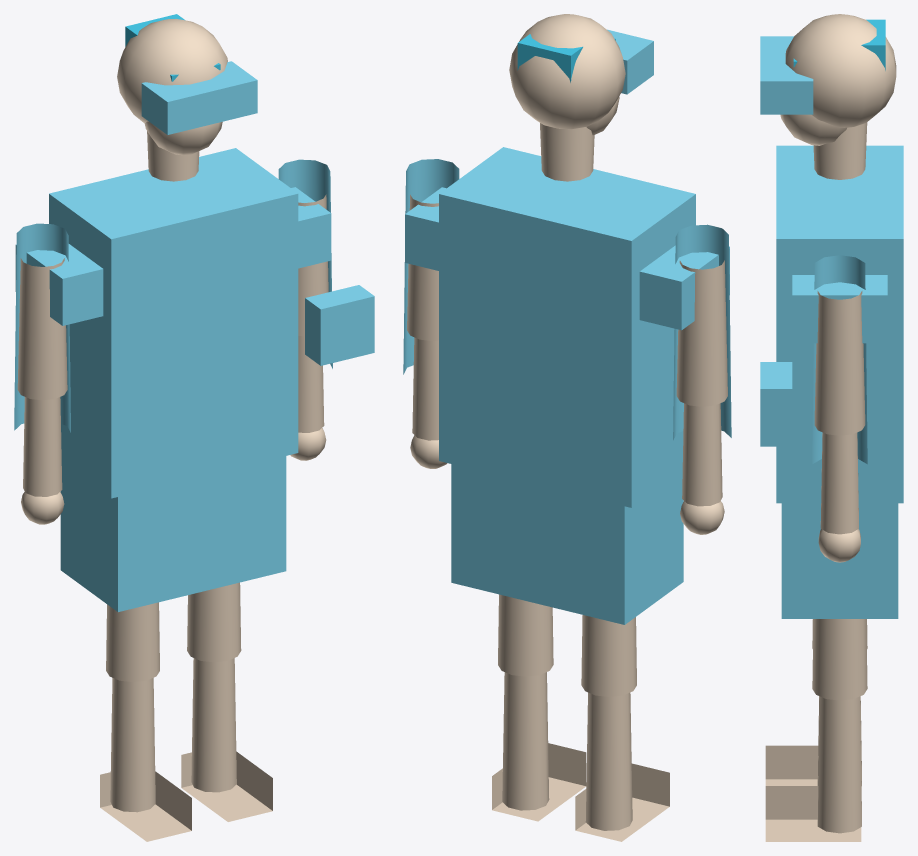
File: body.glb
3 renders of one model, left to right at view 1: azimuth 30°, elevation 25°; view 2: azimuth 150°, elevation 25°; view 3: azimuth 270°, elevation 25°, orthographic. The views are drawn at different scales.
Visible parts, largest first — view 1: Metal, Skin; view 2: Metal, Skin, Hair; view 3: Metal, Skin, Hair.
Boxes of the visible parts, x1,y1,x2,y2 form: Metal: [14, 61, 374, 612]; Skin: [17, 19, 328, 841]; Metal: [403, 29, 731, 624]; Skin: [407, 14, 727, 841]; Hair: [517, 34, 615, 82]; Metal: [760, 36, 903, 618]; Skin: [765, 14, 896, 841]; Hair: [793, 19, 885, 70].
Bounding box in the file's own units: 0.7057 × 1.65 × 0.27.
